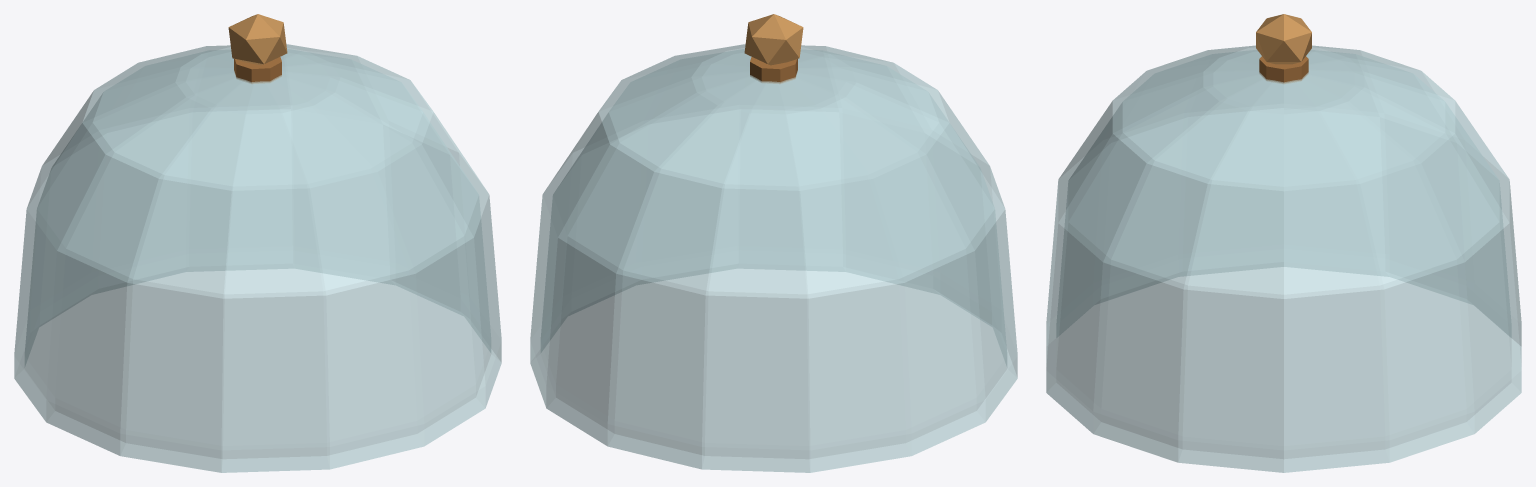
Rendered from cake_dome.glb.
3 views of the same model, side by side, from view 1: azimuth 30°, elevation 25°; view 2: azimuth 150°, elevation 25°; view 3: azimuth 270°, elevation 25° (orthographic).
Parts seen in each view (by area): view 1: cake_dome; view 2: cake_dome; view 3: cake_dome.
Part boxes in pixels (box(x1,y1,x2,y2)): cake_dome: box(14, 14, 501, 472); cake_dome: box(530, 14, 1017, 472); cake_dome: box(1046, 14, 1521, 472).
Size of the model in its own units: 0.236 by 0.19 by 0.2301.
